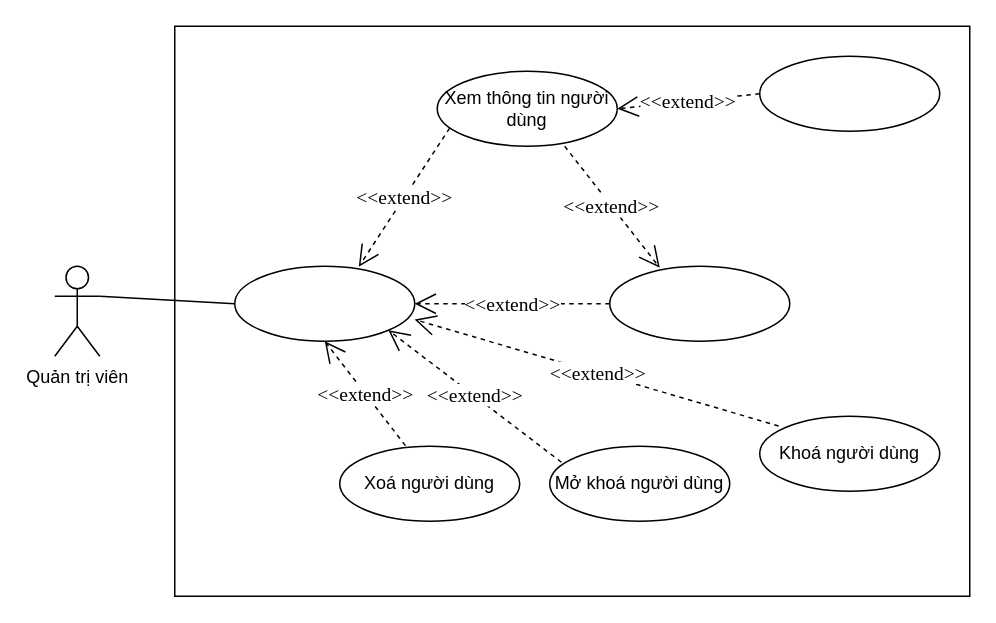
Some shapes in this 996 by 623 pixel diagram are drawn without their labels. The centre of each missing label's shape, as x and y in pixels:
"Phân quyền người dùng" goes at point (849, 93).
"Quản lý người dùng" goes at point (324, 303).
"Tìm kiếm người dùng" goes at point (699, 303).
